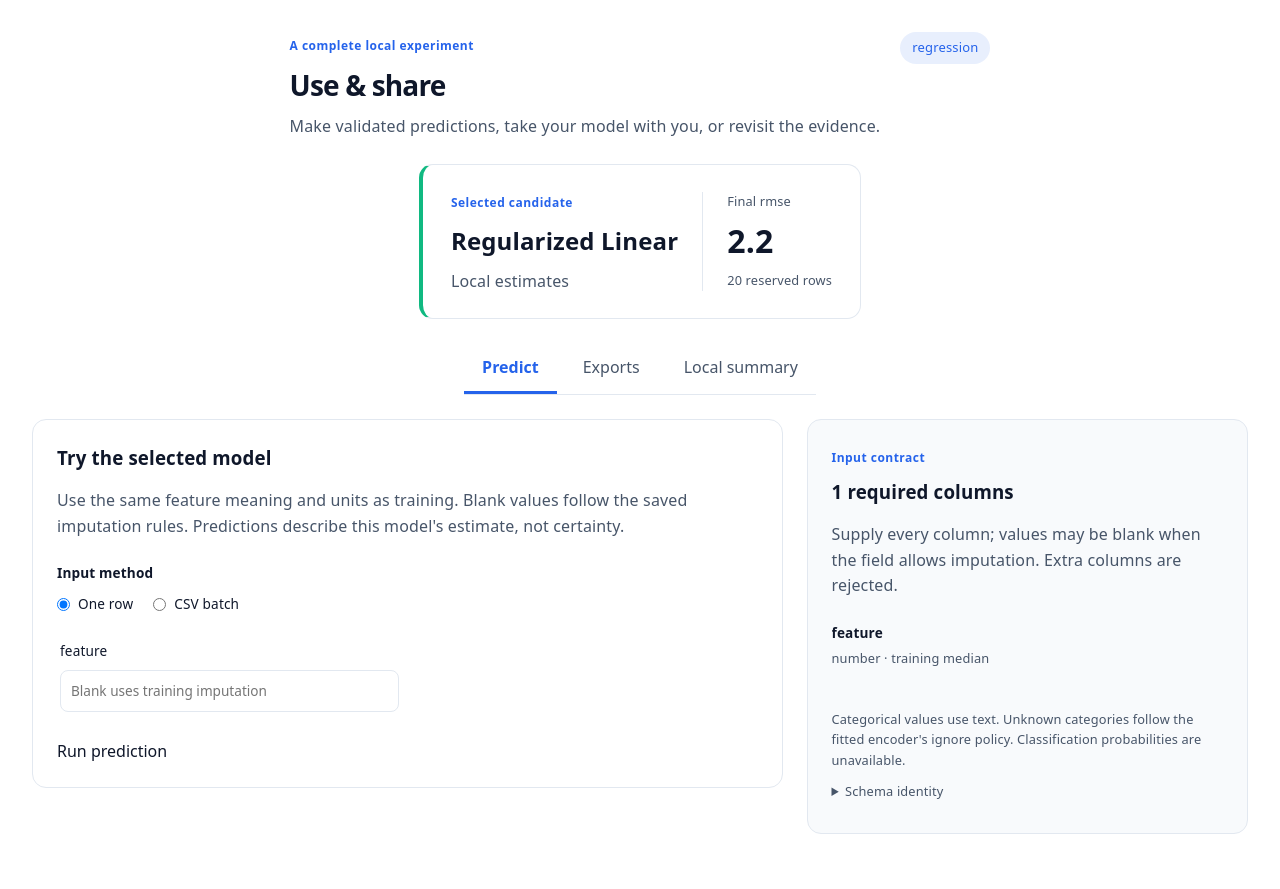
retries lost responses using one key and preserves field-level validation feedback
In the number field labelled "feature": (230, 691) top-left (60, 670), bottom-right (399, 712), type "2"
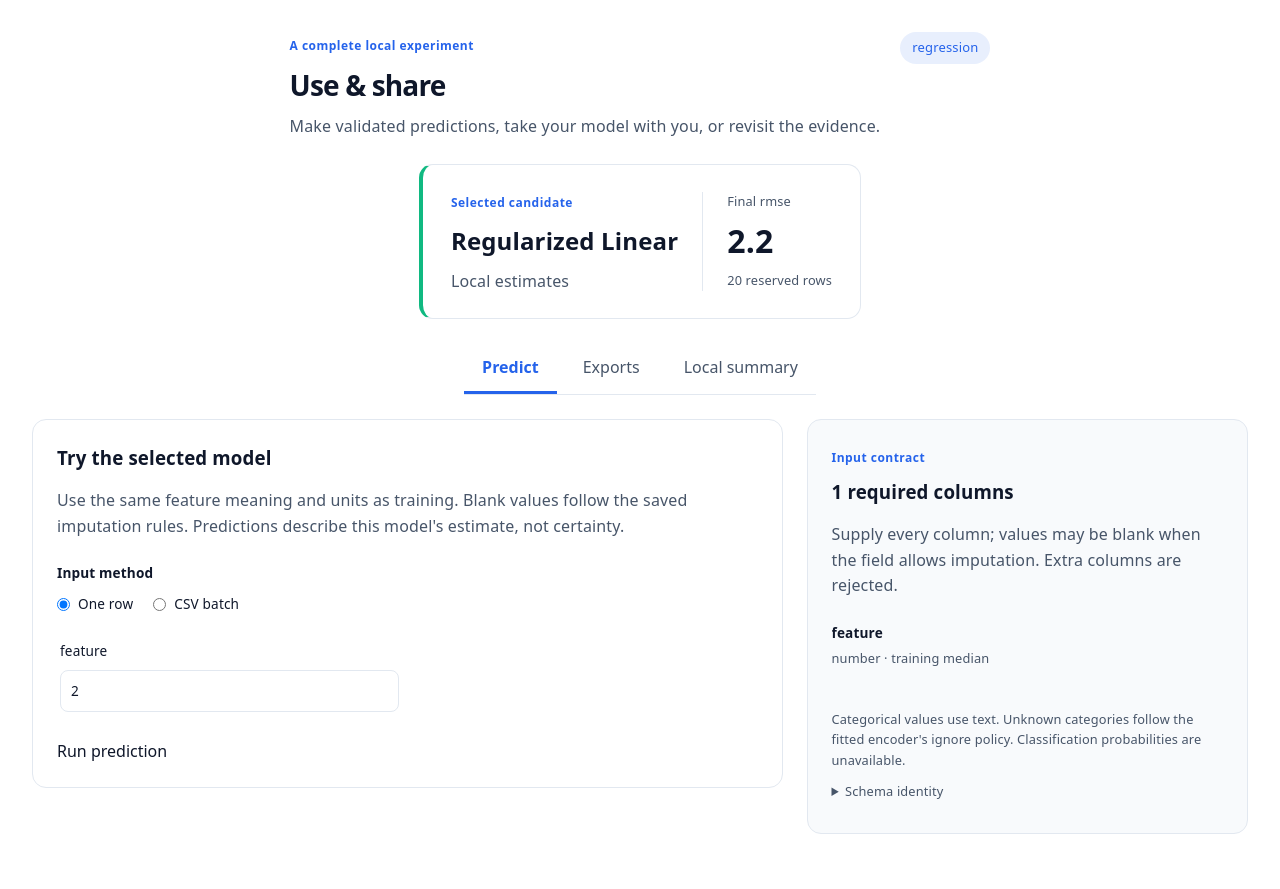
Click the button "Run prediction": (112, 751) top-left (57, 739), bottom-right (167, 763)
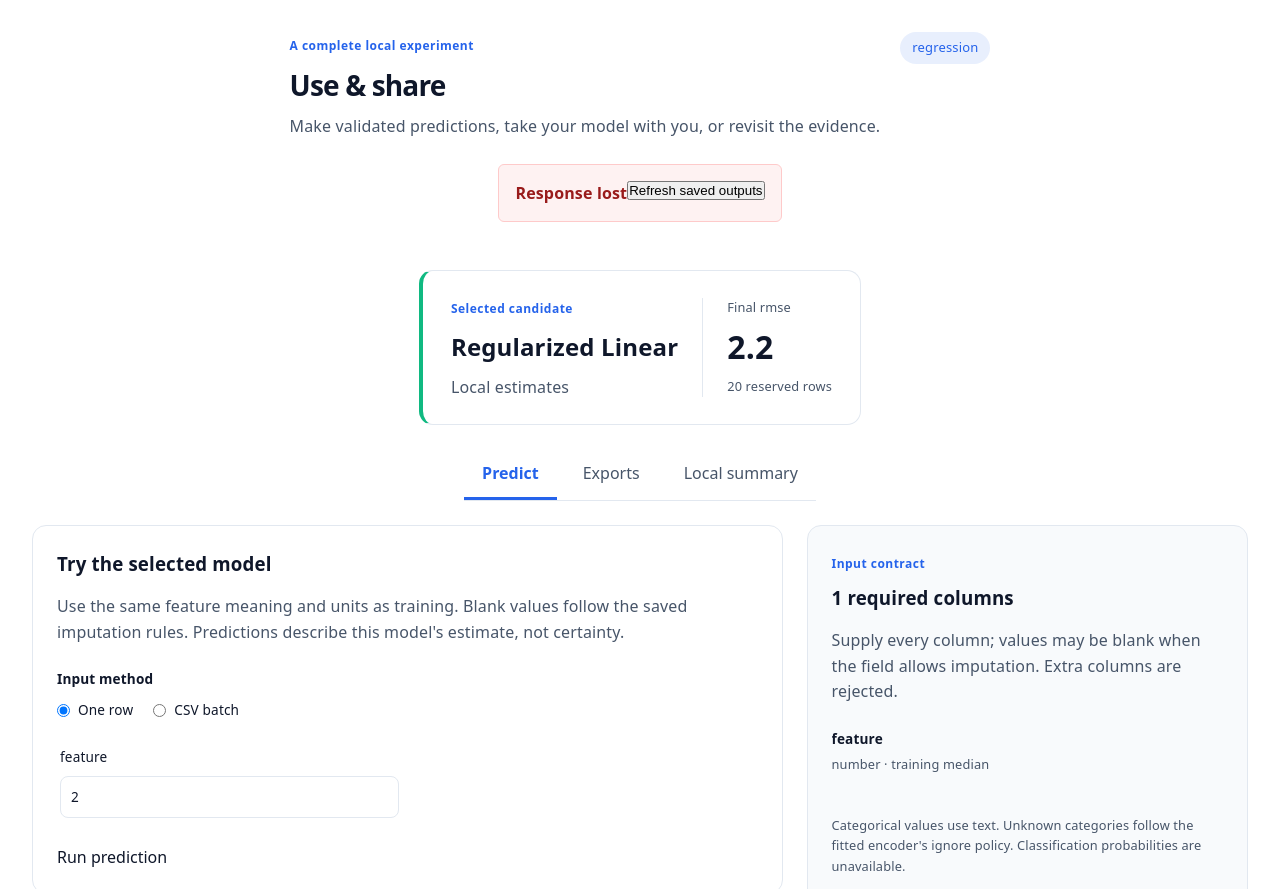
Expected: the text "Response lost" is shown, top-left (516, 182), bottom-right (627, 204)
Click the button "Run prediction": (112, 857) top-left (57, 845), bottom-right (167, 869)
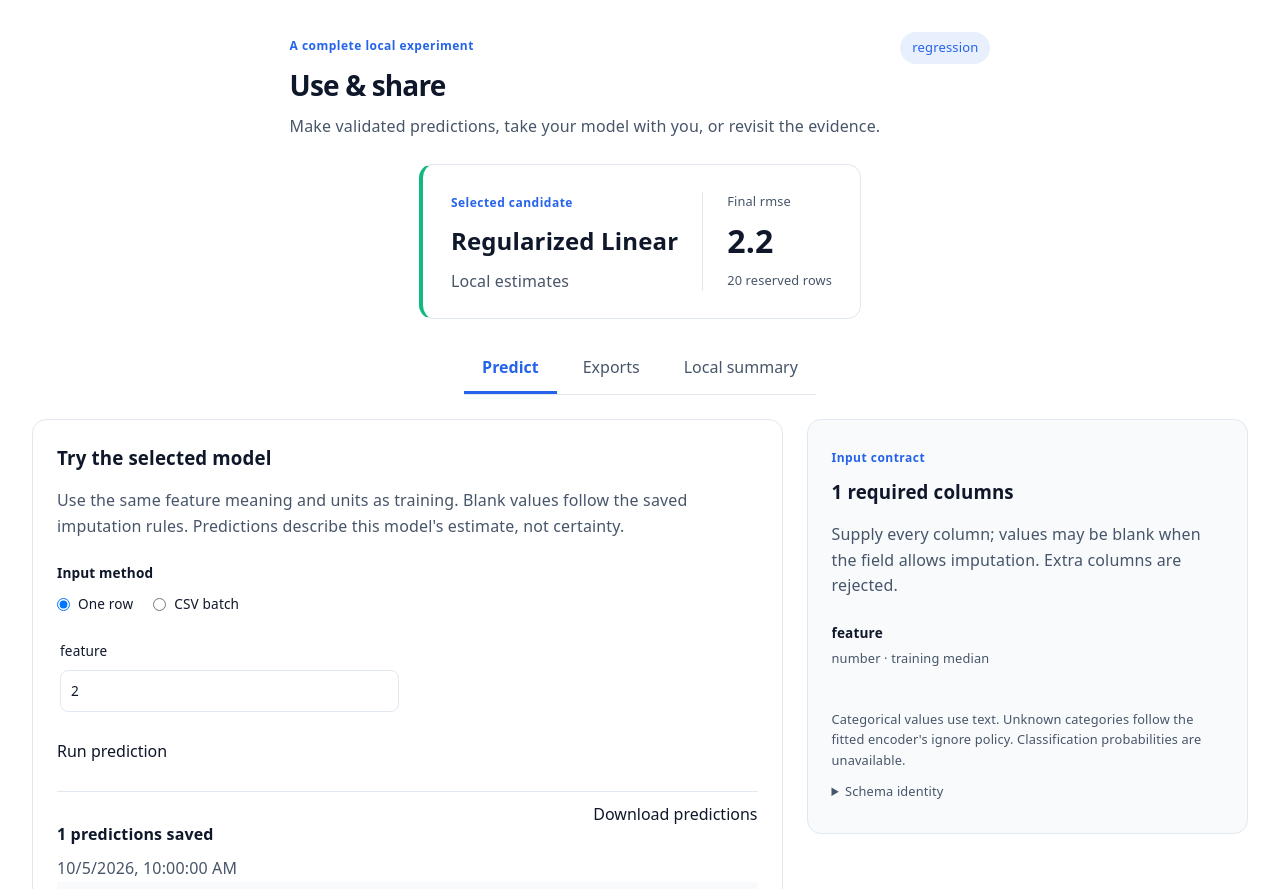
Expected: the heading "1 predictions saved" is shown, top-left (57, 822), bottom-right (237, 846)
